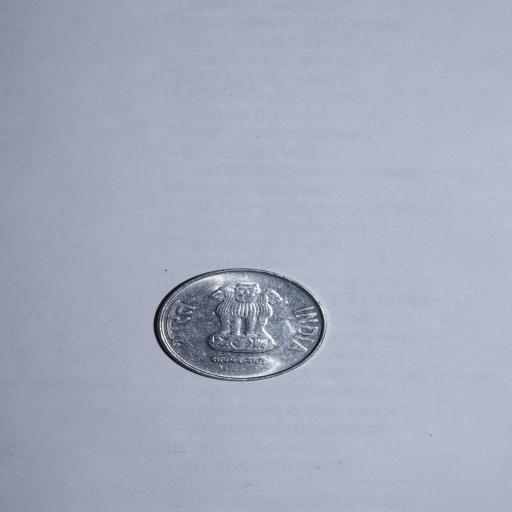rupee1: (149, 265, 329, 381)
